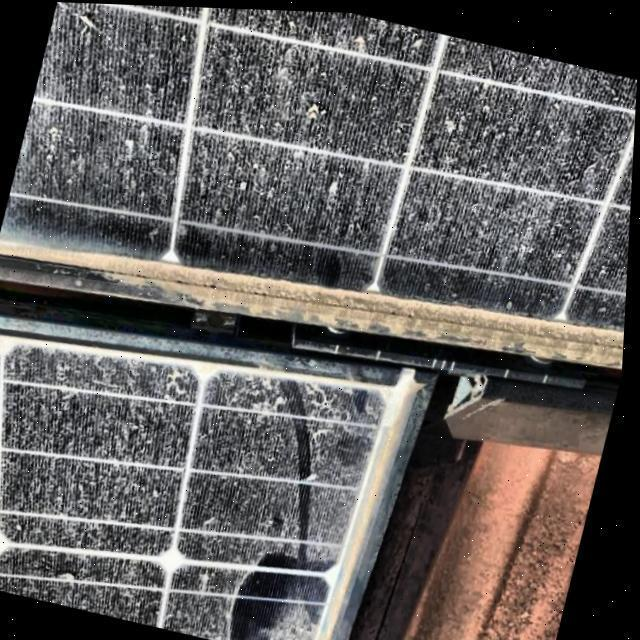Anomaly Solar Panel: (0, 2, 638, 421), (0, 286, 430, 640)
Surface Contaminant: (0, 2, 638, 378), (0, 302, 391, 640)
